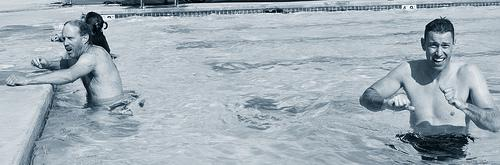swimmer: (361, 16, 500, 162), (9, 20, 117, 109)
